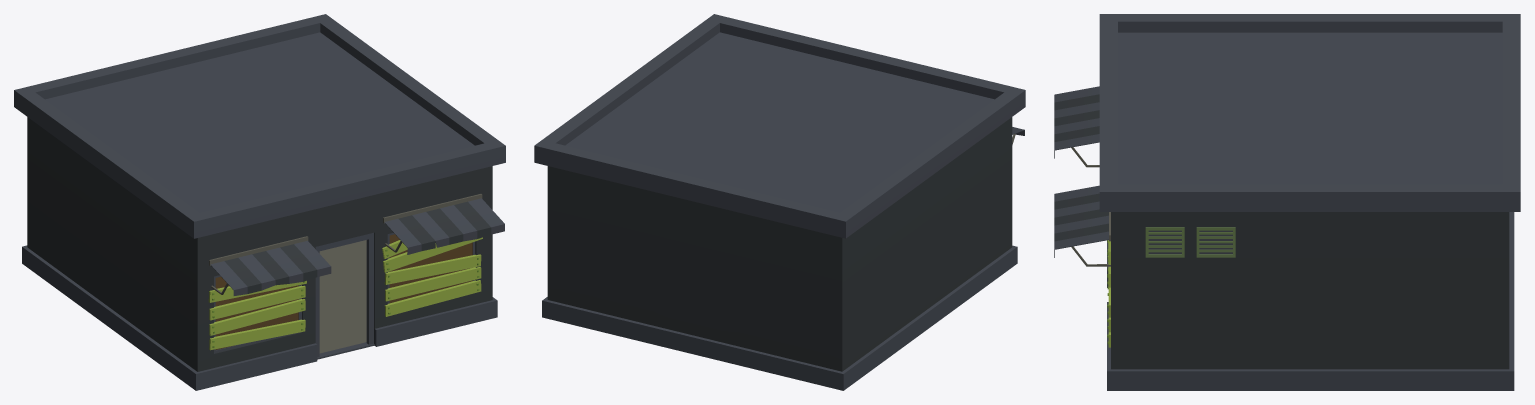
File: House_07.fbx
The picture shows the model from 3 angles, left to right: view 1: azimuth 30°, elevation 25°; view 2: azimuth 150°, elevation 25°; view 3: azimuth 270°, elevation 25°; orthographic projection. The views are drawn at different scales.
Visible parts, largest first — view 1: House_07; view 2: House_07; view 3: House_07.
Boxes of the visible parts, x1,y1,x2,y2 form: House_07: (14, 14, 505, 390); House_07: (534, 14, 1025, 390); House_07: (1054, 14, 1520, 390).
Size of the model in its own units: 6.34 by 3.36 by 7.03.
